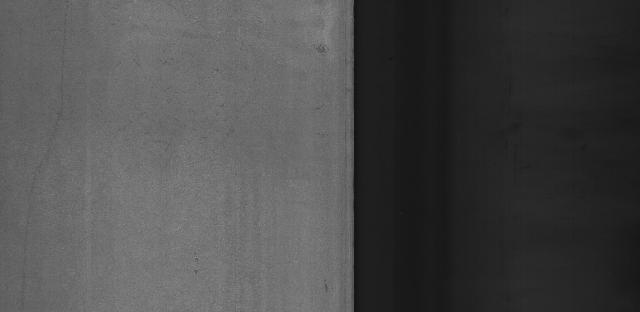inclusion: (182, 246, 211, 285)
silk_spot: (122, 27, 237, 173)
